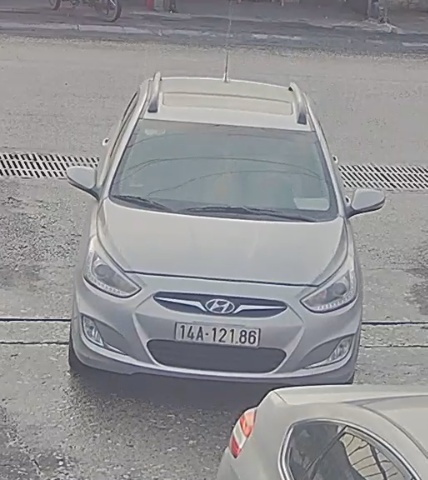vehicle plate: (170, 318, 270, 351)
